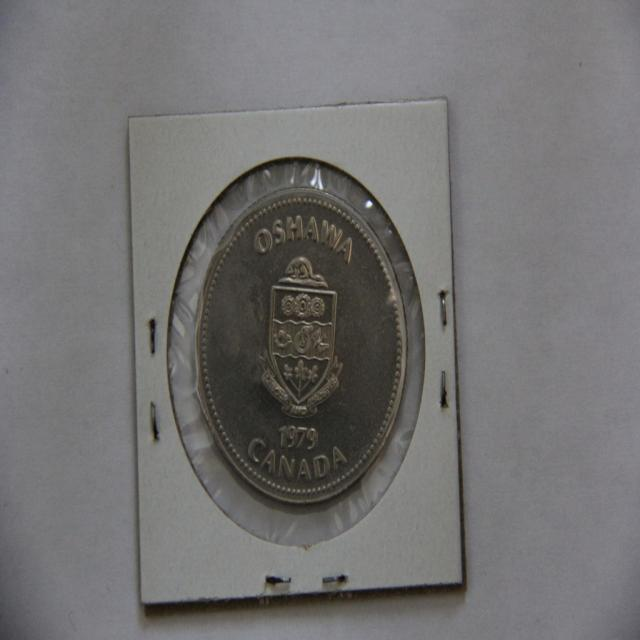Coin: (195, 186, 408, 506)
